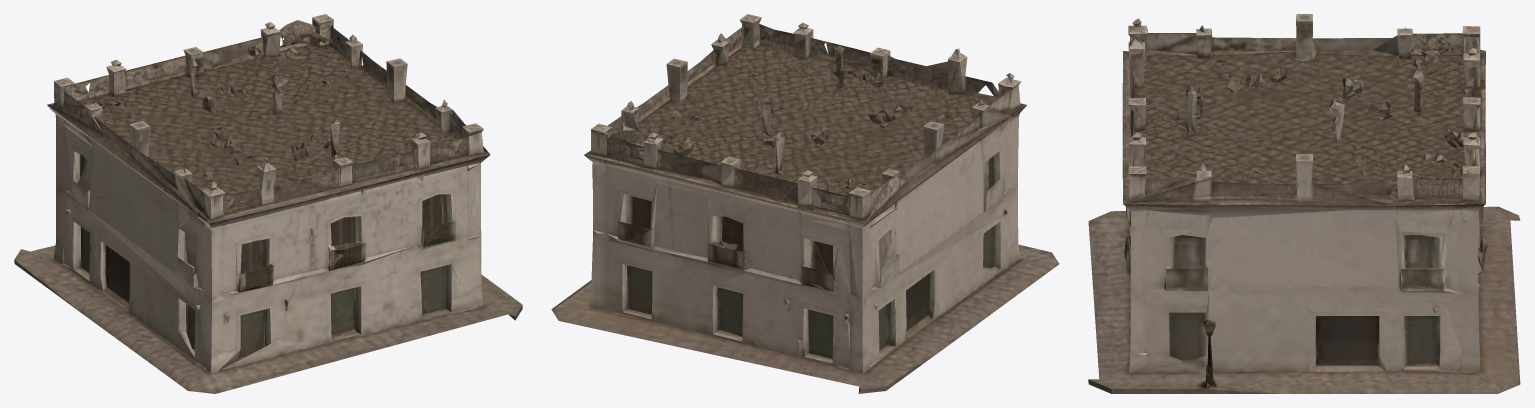
File: casa-colonial-4.glb
The picture shows the model from 3 angles, left to right: view 1: azimuth 30°, elevation 25°; view 2: azimuth 150°, elevation 25°; view 3: azimuth 270°, elevation 25°; orthographic projection. The views are drawn at different scales.
Bounding box in the file's own units: 1.9 × 1.09 × 1.9.
Materials: 1 (1 with a texture image).
